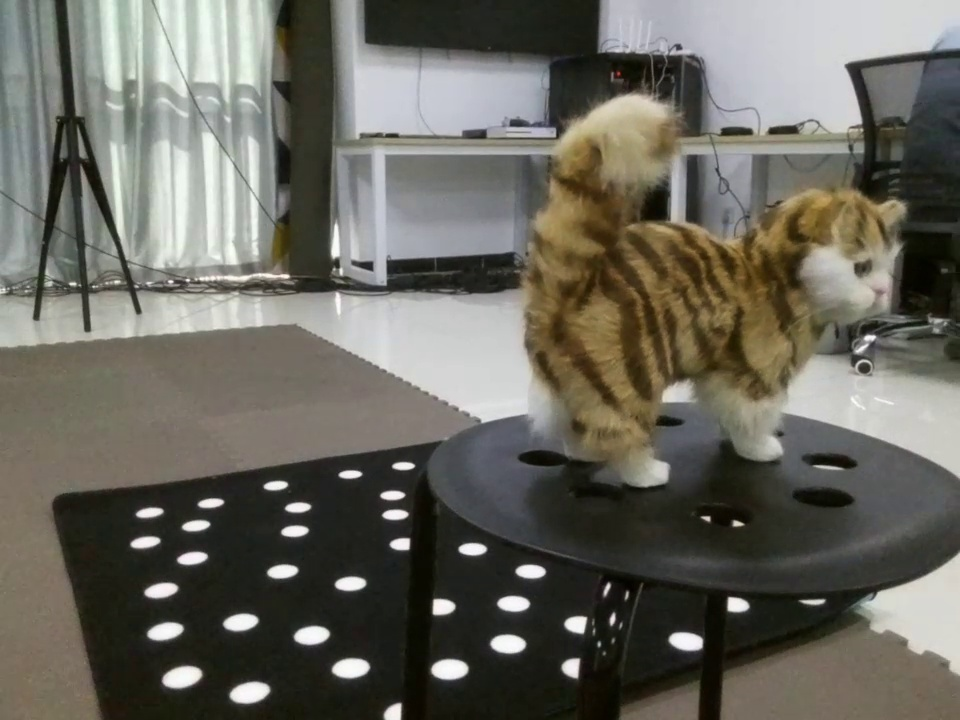cat: (501, 77, 924, 490)
